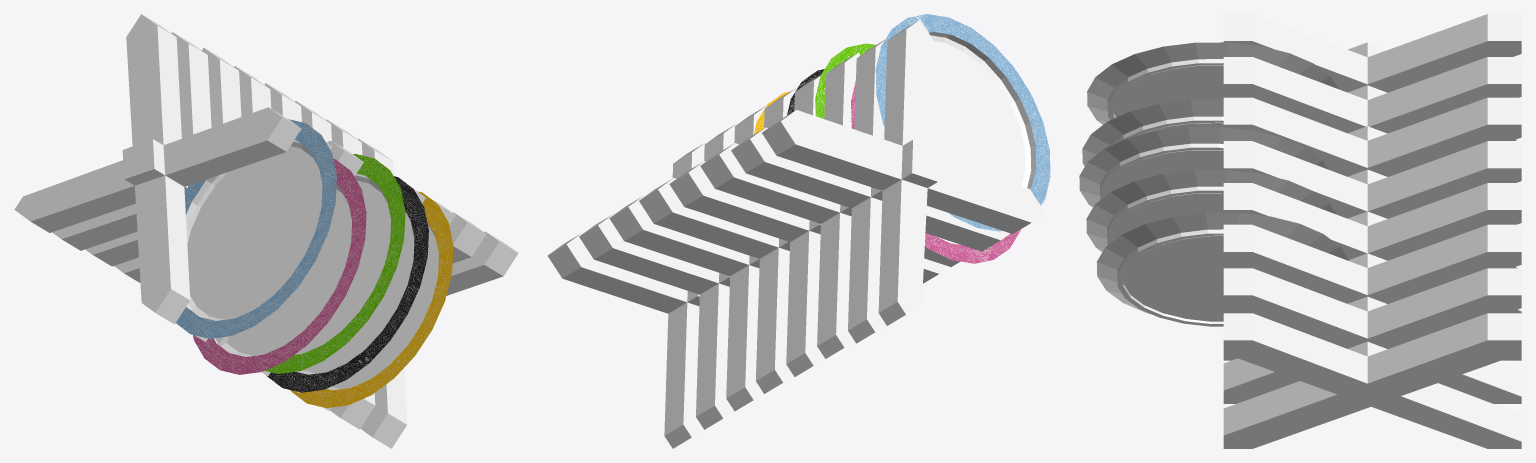
3 renders of one model, left to right at view 1: azimuth 30°, elevation 25°; view 2: azimuth 150°, elevation 25°; view 3: azimuth 270°, elevation 25°, orthographic. The views are drawn at different scales.
Parts seen in each view (by area): view 1: furniture dishes; view 2: furniture dishes; view 3: furniture dishes.
Boxes of the visible parts, x1=… form: furniture dishes: x1=14, y1=14, x2=518, y2=448; furniture dishes: x1=547, y1=14, x2=1050, y2=448; furniture dishes: x1=1079, y1=14, x2=1521, y2=448.
Bounding box in the file's own units: 506 × 477 × 505.
